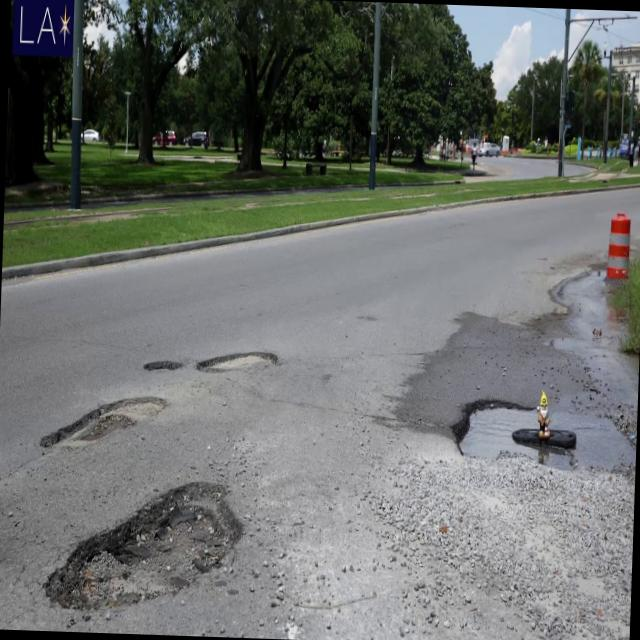Potholes: (24, 448, 252, 634), (431, 362, 638, 536), (35, 383, 169, 475), (183, 312, 286, 403), (141, 334, 183, 380)
